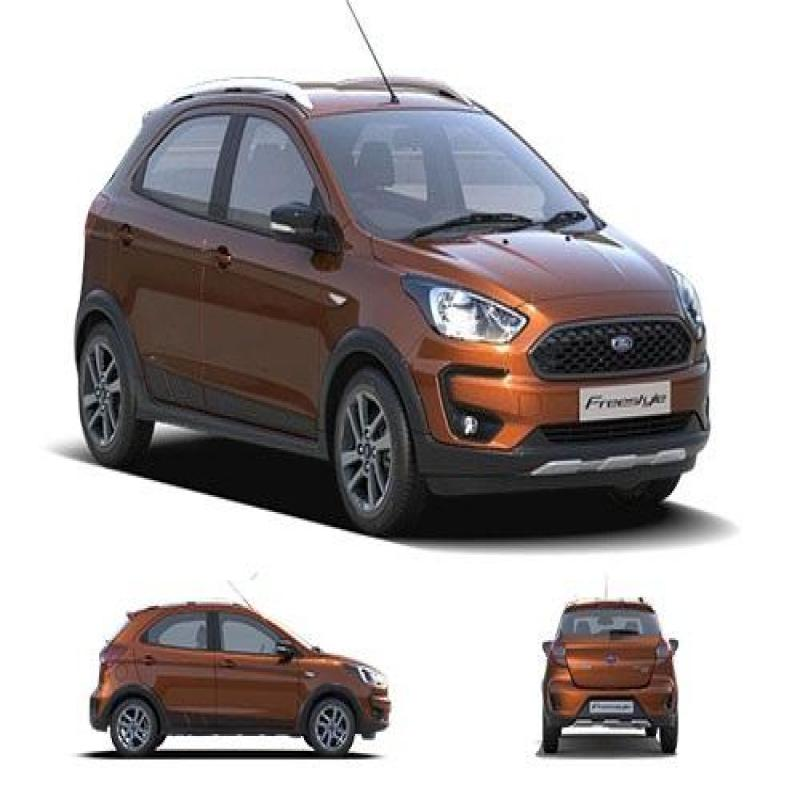car: (48, 67, 718, 511), (68, 600, 389, 772), (528, 603, 694, 756)
